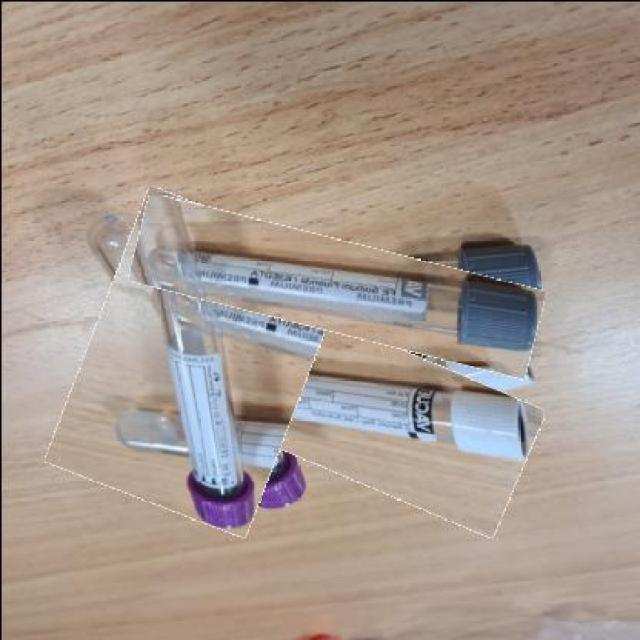Experimental-tube: (66, 198, 328, 522), (135, 293, 539, 502), (128, 216, 542, 355)
